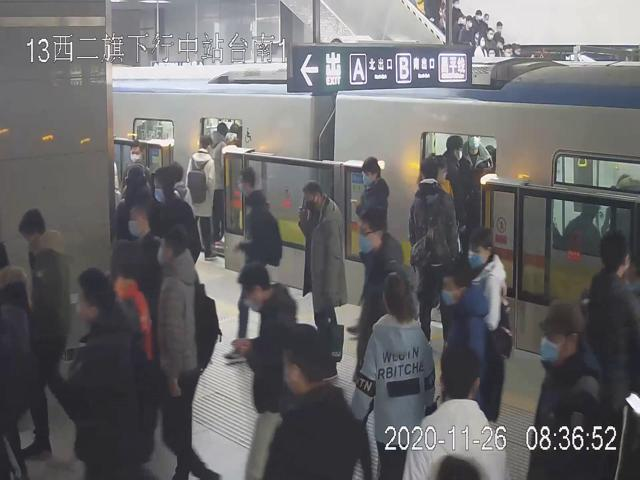person: (351, 273, 436, 480), (71, 265, 142, 480), (157, 222, 215, 480), (18, 208, 75, 458), (237, 262, 298, 475), (224, 165, 273, 362), (298, 180, 346, 380), (409, 160, 457, 345), (465, 223, 510, 420), (354, 206, 403, 366), (185, 136, 218, 260)
